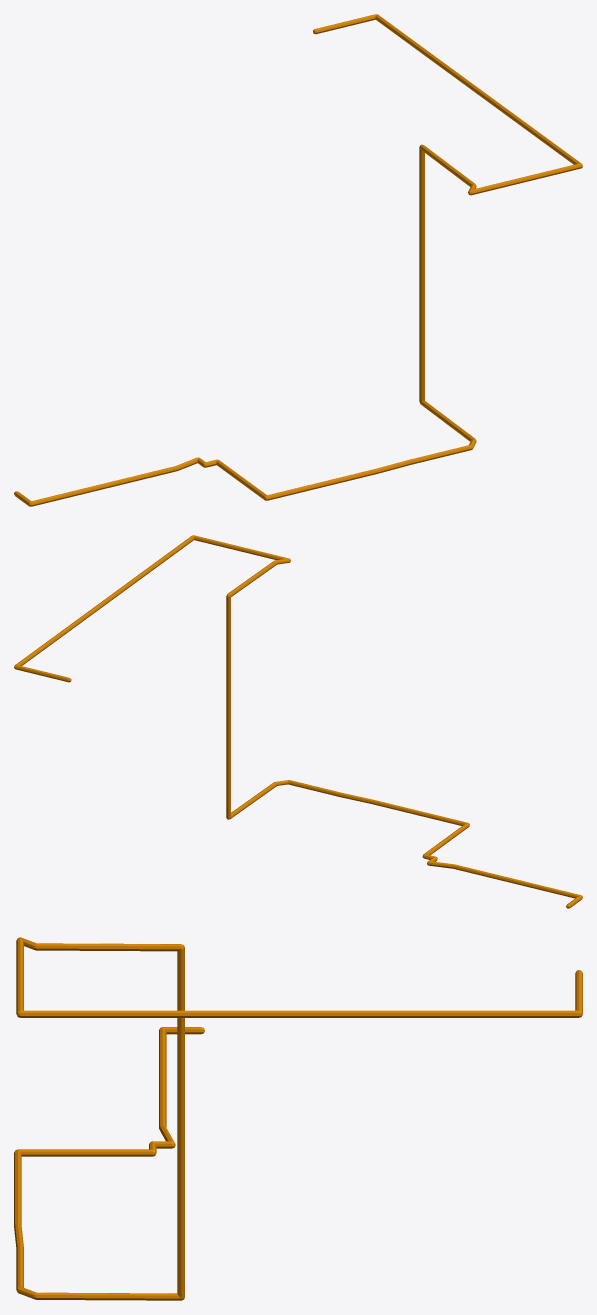
3 views of the same model, one above another, from view 1: azimuth 30°, elevation 25°; view 2: azimuth 150°, elevation 25°; view 3: azimuth 270°, elevation 25° (orthographic). The views are drawn at different scales.
Size of the model in its own units: 2063 by 1020 by 1476.
